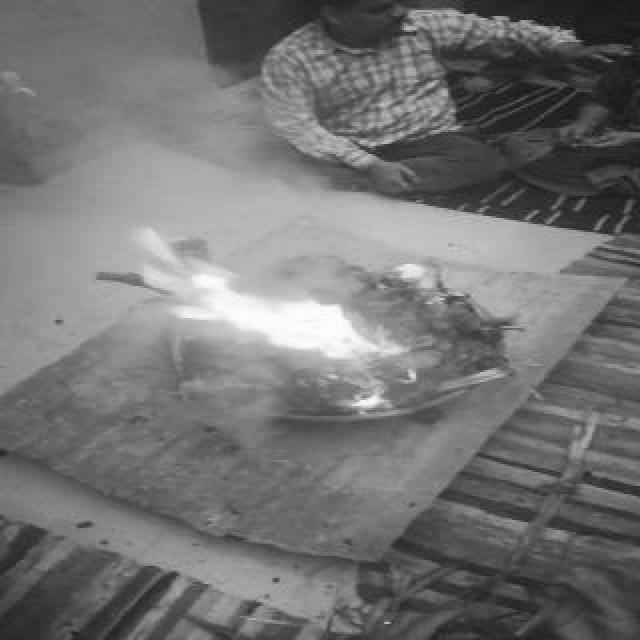Fire: (138, 230, 380, 358)
Smoke: (2, 98, 336, 232), (2, 2, 242, 100), (160, 358, 298, 452)
